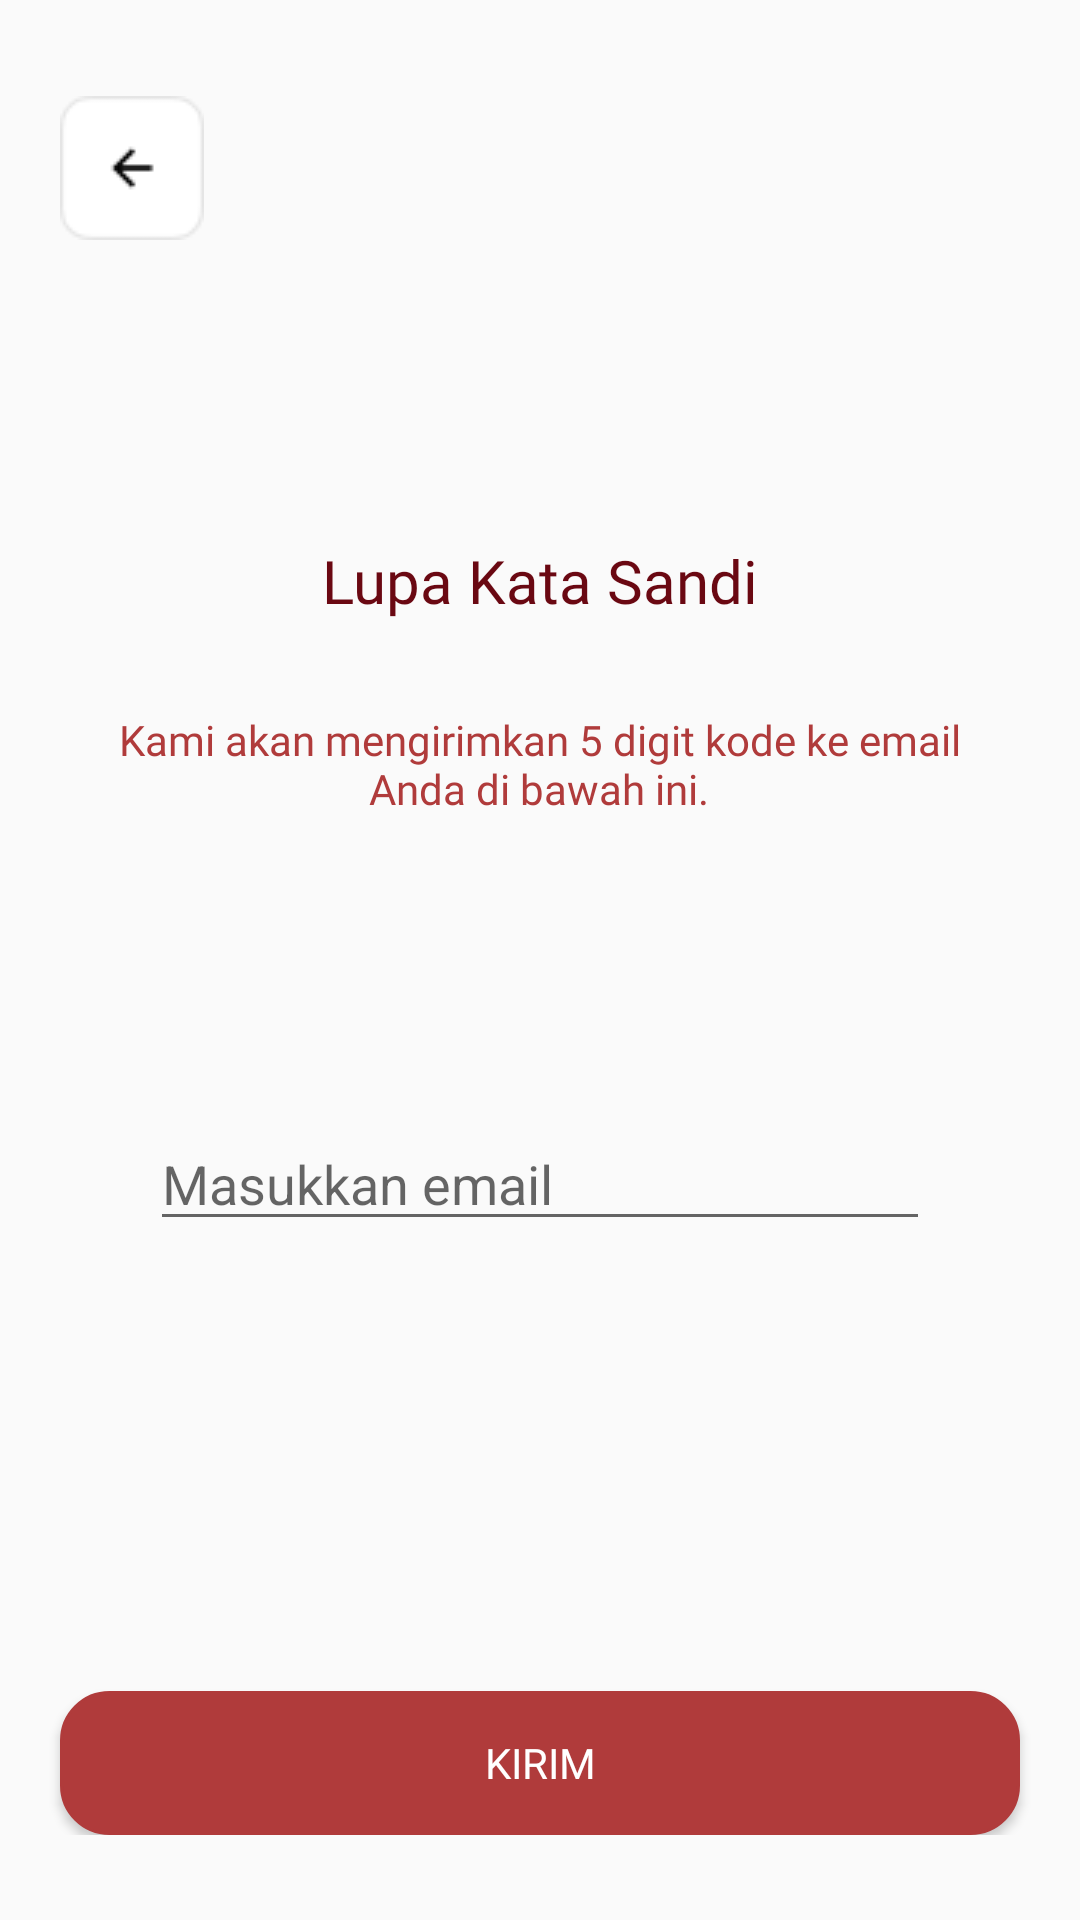

Icons on this 1080 x 1920 Android screen, each with the point to tap as (x=x, y=y):
Kembali: (x=132, y=168)
